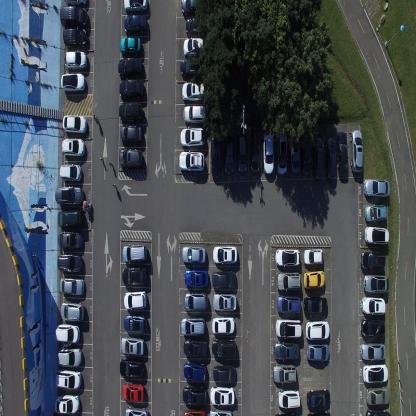car: (54, 185, 84, 207), (350, 128, 363, 174), (363, 176, 390, 198), (54, 322, 81, 344), (60, 5, 88, 26), (211, 336, 237, 358), (179, 150, 205, 172), (60, 71, 86, 93), (275, 128, 287, 175), (336, 132, 348, 178), (249, 128, 261, 174), (60, 298, 84, 321), (123, 13, 147, 36), (360, 316, 385, 338), (210, 384, 235, 406), (183, 337, 208, 359), (360, 250, 385, 272), (180, 126, 205, 148), (118, 57, 143, 79), (119, 101, 144, 123), (62, 113, 87, 135), (274, 339, 300, 360), (57, 347, 83, 368), (62, 27, 88, 48), (275, 317, 302, 337), (223, 131, 235, 176), (53, 394, 80, 414), (305, 319, 329, 341), (182, 360, 206, 382), (184, 267, 208, 289), (363, 273, 388, 294), (183, 104, 208, 125), (182, 82, 207, 103), (120, 79, 145, 100), (183, 291, 208, 312), (119, 357, 144, 378), (275, 246, 301, 266), (362, 363, 388, 383), (58, 207, 84, 227), (212, 245, 238, 265), (121, 243, 147, 263), (211, 132, 222, 179), (324, 137, 336, 180), (121, 266, 148, 285), (55, 370, 82, 389), (263, 130, 274, 176), (120, 146, 143, 168), (182, 384, 206, 405), (364, 225, 388, 246), (212, 269, 236, 290), (123, 289, 147, 310), (272, 362, 297, 382), (180, 58, 205, 78), (180, 316, 205, 336), (120, 335, 145, 355), (63, 50, 88, 70), (313, 137, 324, 182), (360, 342, 386, 361), (57, 252, 83, 271), (57, 230, 84, 248), (180, 0, 207, 18), (300, 133, 311, 177), (121, 381, 144, 402), (306, 389, 330, 409), (277, 270, 301, 290), (212, 362, 236, 382), (361, 296, 385, 316), (184, 38, 208, 58), (124, 313, 148, 333), (61, 137, 85, 157), (60, 276, 85, 295), (212, 292, 237, 311), (181, 246, 206, 265), (306, 342, 329, 362), (303, 269, 326, 289), (366, 385, 389, 405), (59, 163, 82, 183), (120, 125, 144, 144), (185, 17, 209, 36), (289, 132, 300, 173), (303, 296, 328, 314), (278, 388, 300, 408), (237, 133, 248, 173), (364, 203, 387, 222), (212, 316, 235, 335), (277, 294, 301, 312), (120, 38, 142, 57), (303, 247, 324, 266), (123, 0, 147, 12), (182, 405, 206, 415), (125, 405, 149, 415), (365, 408, 390, 416), (209, 408, 233, 415), (63, 0, 87, 6), (275, 410, 298, 416), (306, 410, 331, 415)
